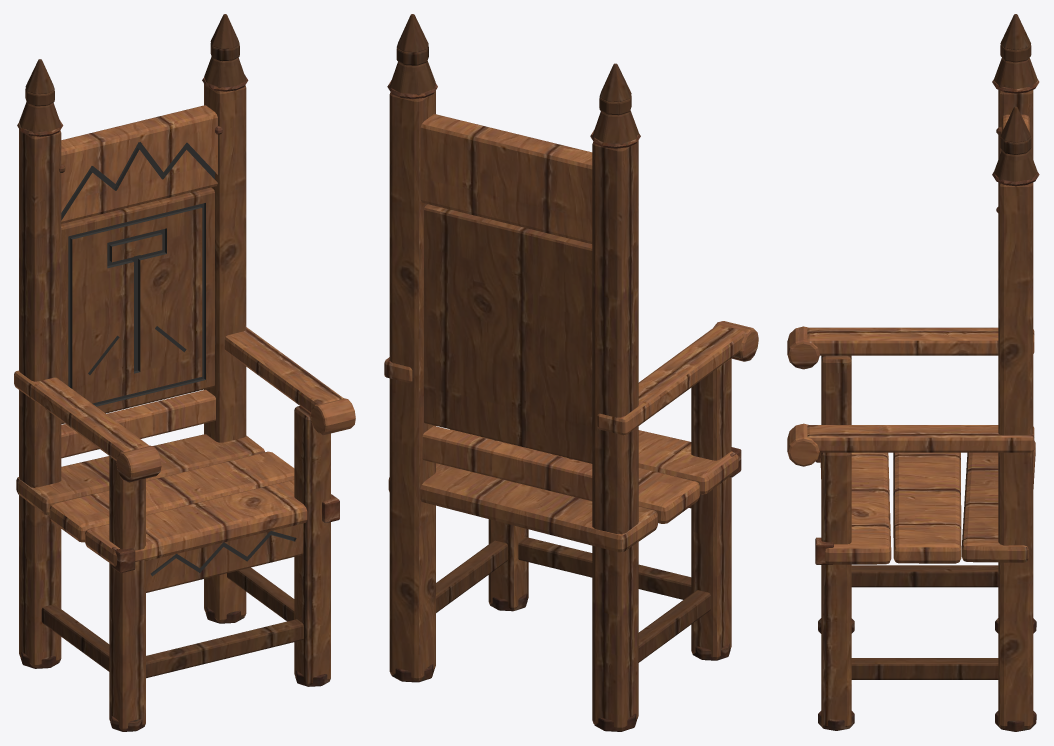
File: hm_carved_high_chair.glb
3 views of the same model, side by side, from view 1: azimuth 30°, elevation 25°; view 2: azimuth 150°, elevation 25°; view 3: azimuth 270°, elevation 25° (orthographic). The views are drawn at different scales.
Visible parts, largest first — view 1: model; view 2: model; view 3: model.
Boxes of the visible parts, <box> form: model: <box>14,14,355,731</box>; model: <box>384,14,758,731</box>; model: <box>787,14,1039,731</box>.
Bounding box in the file's own units: 0.5735 × 1.46 × 0.541.
Materials: 7 (6 with a texture image).
